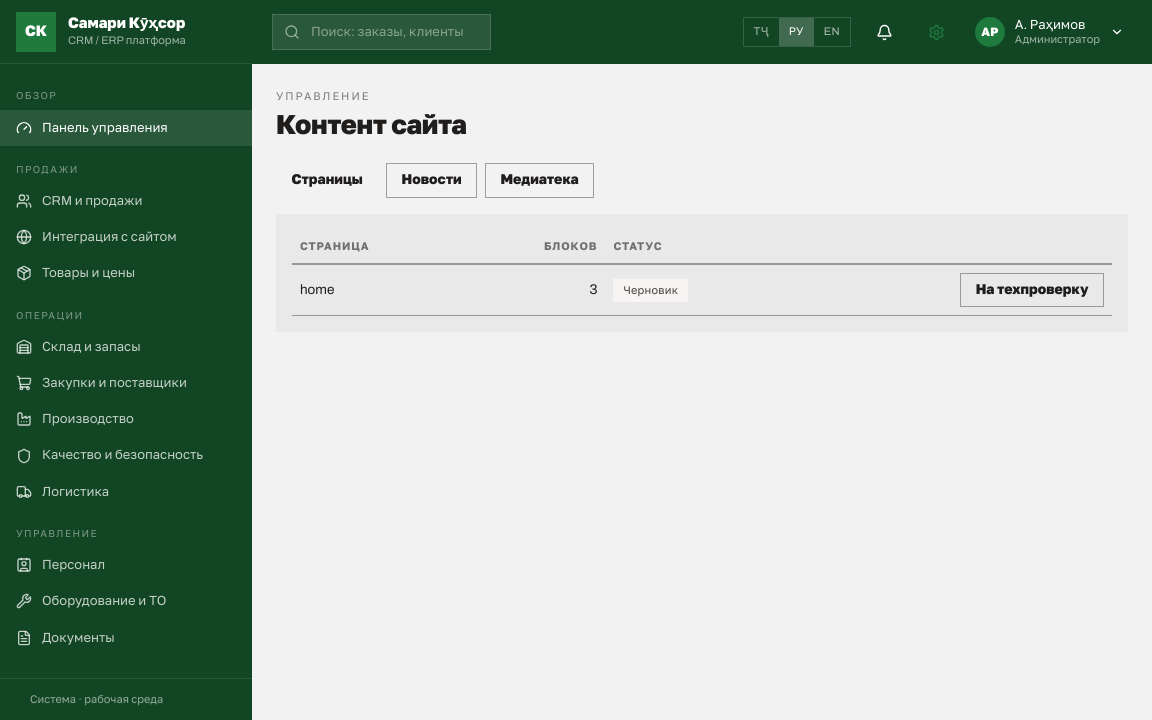
Test case: news › surfaces a rejected slug against the form
Click the tab "Новости" at (432, 180), box [386, 163, 477, 198]
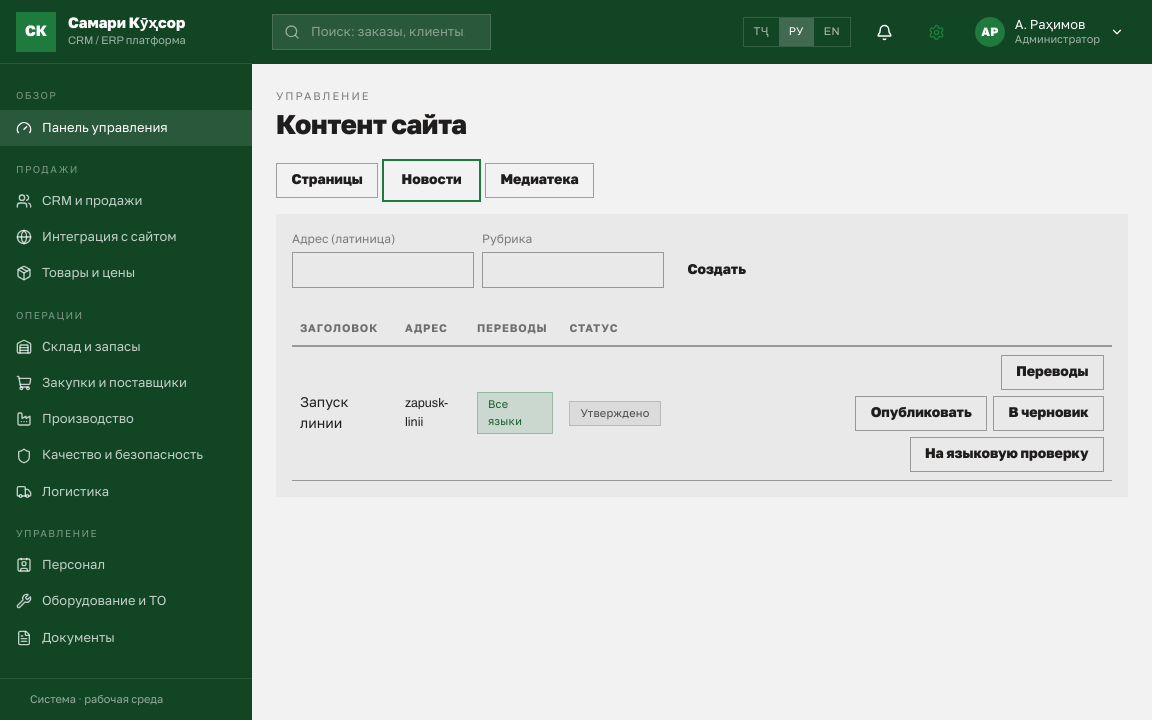
Type "запуск" into the field labelled "Адрес (латиница)" at (383, 270), box [292, 252, 474, 288]
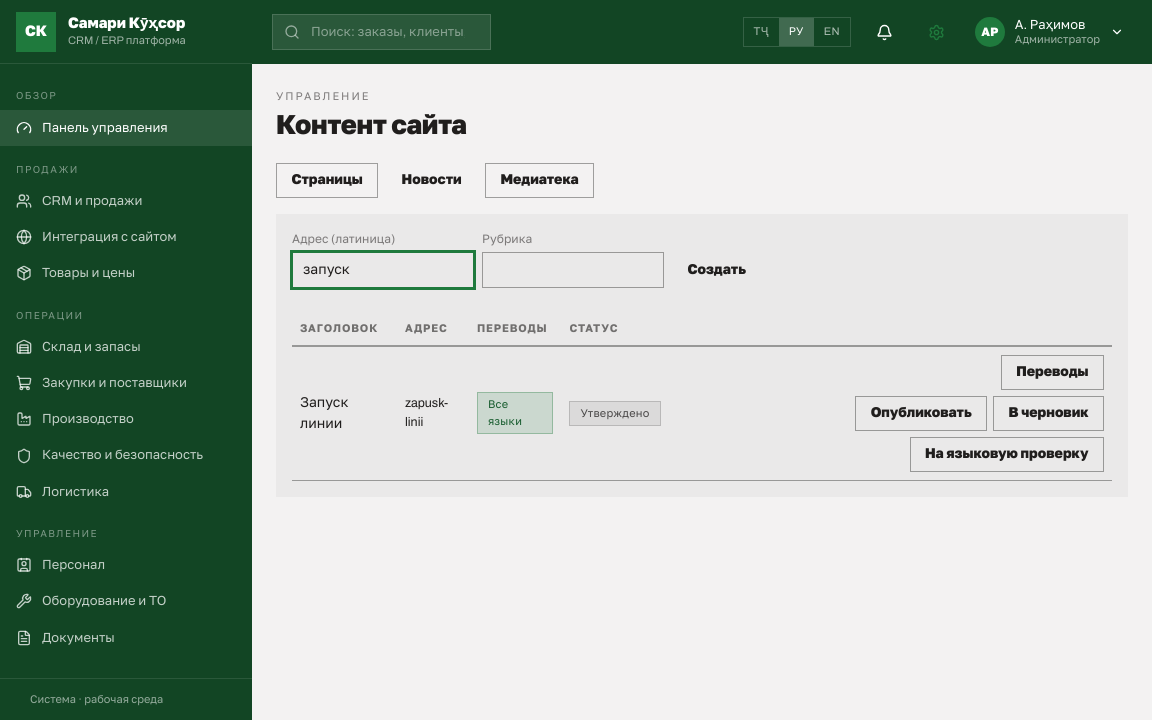
Click the button "Создать" at (717, 271), box [672, 253, 761, 288]
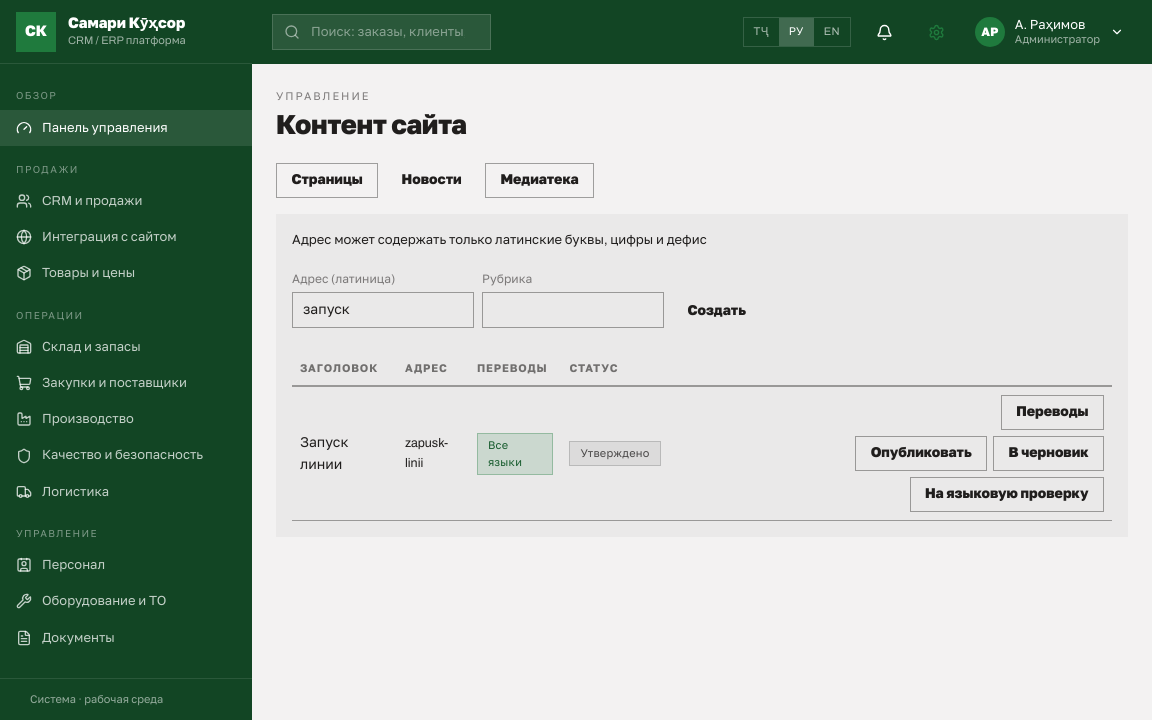
Expected: the message with test id "news-form-error" shows "латинские буквы", [292, 233, 707, 247]
